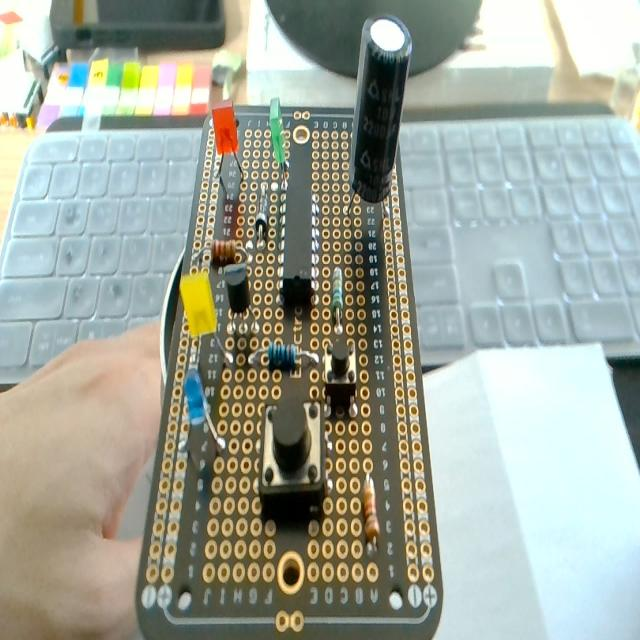Electrolytic capacitor: (337, 11, 417, 221)
IC: (278, 194, 324, 316)
led: (177, 278, 227, 376), (178, 372, 230, 452), (208, 105, 252, 178), (267, 97, 289, 201)
resistor: (246, 342, 322, 379), (358, 460, 382, 551), (195, 228, 251, 262), (326, 255, 349, 328), (253, 177, 271, 253)
switch: (256, 387, 324, 521), (320, 331, 366, 405)
